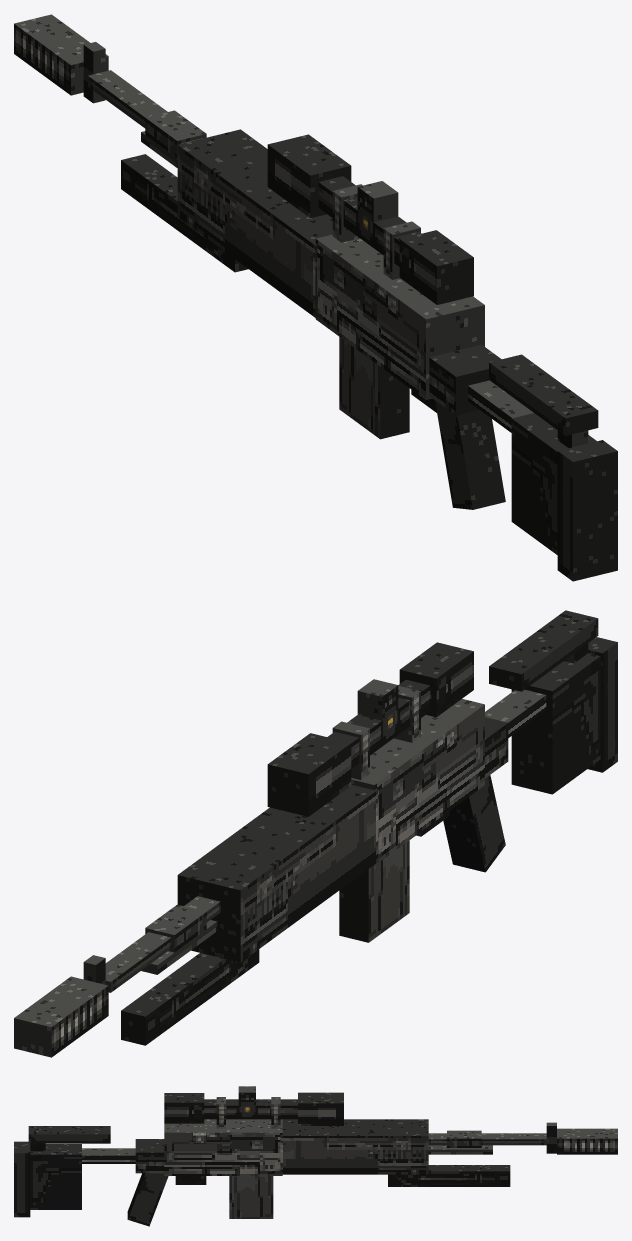
The model's file is mk14ebr.glb.
3 views of the same model, one above another, from view 1: azimuth 30°, elevation 25°; view 2: azimuth 150°, elevation 25°; view 3: azimuth 270°, elevation 25° (orthographic). The views are drawn at different scales.
Parts seen in each view (by area): view 1: handguard, receiver, butt_pad, stock_body, pistol_grip, magazine, cheek_riser, scope_bell, scope_eyepiece, muzzle_device, bipod_legs, chassis_rear (+8 smaller); view 2: handguard, receiver, stock_body, bipod_legs, scope_bell, muzzle_device, magazine, cheek_riser, pistol_grip, scope_eyepiece, butt_pad, barrel (+8 smaller); view 3: handguard, receiver, stock_body, bipod_legs, magazine, muzzle_device, scope_bell, cheek_riser, scope_tube, pistol_grip, butt_pad, scope_eyepiece (+10 smaller).
Part boxes in pixels (x1,y1,x2,y2): handguard: [177, 129, 332, 317]; receiver: [315, 234, 484, 399]; butt_pad: [557, 440, 617, 581]; stock_body: [511, 413, 596, 554]; pistol_grip: [435, 400, 505, 509]; magazine: [339, 337, 409, 439]; cheek_riser: [489, 354, 598, 435]; scope_bell: [267, 134, 351, 218]; scope_eyepiece: [399, 230, 473, 304]; muzzle_device: [14, 14, 108, 95]; bipod_legs: [121, 154, 248, 272]; chassis_rear: [429, 344, 501, 415]; handguard: [177, 784, 378, 962]; receiver: [351, 699, 484, 865]; stock_body: [511, 653, 600, 794]; bipod_legs: [121, 949, 259, 1045]; scope_bell: [267, 733, 351, 816]; muzzle_device: [14, 976, 108, 1057]; magazine: [339, 840, 409, 942]; cheek_riser: [489, 610, 598, 691]; pistol_grip: [443, 775, 505, 872]; scope_eyepiece: [399, 642, 473, 717]; butt_pad: [588, 637, 617, 772]; barrel: [105, 896, 220, 992]; handguard: [280, 1119, 428, 1174]; receiver: [164, 1119, 282, 1175]; stock_body: [30, 1144, 81, 1209]; bipod_legs: [388, 1165, 510, 1186]; magazine: [229, 1176, 273, 1218]; muzzle_device: [557, 1128, 617, 1154]; scope_bell: [298, 1092, 343, 1125]; cheek_riser: [28, 1126, 110, 1143]; scope_tube: [204, 1099, 297, 1119]; pistol_grip: [127, 1173, 168, 1226]; butt_pad: [14, 1141, 30, 1217]; scope_eyepiece: [164, 1093, 204, 1123].
Size of the model in its own units: 0.0695 by 0.2255 by 0.93.
1 material, 1 textured.
